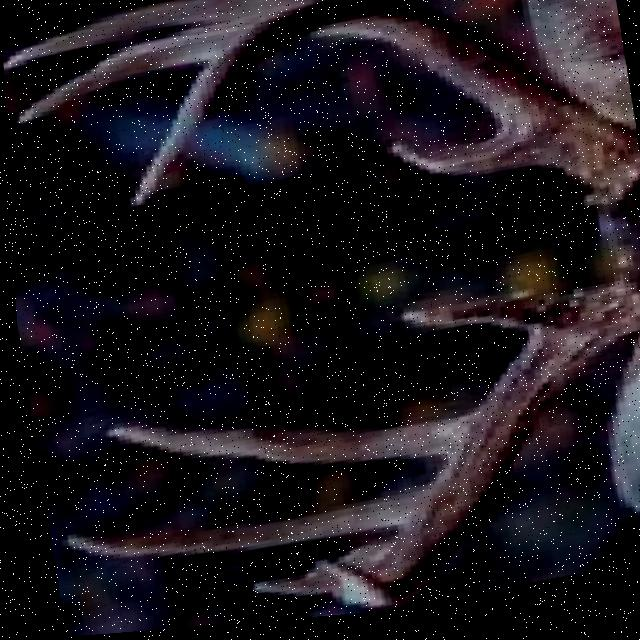L-F: (124, 0, 640, 216)
L-G1: (383, 138, 537, 184)
R-F: (310, 287, 640, 612)
R-G1: (395, 301, 565, 339)
R-G2: (96, 425, 458, 472)
R-G3: (54, 497, 411, 558)
